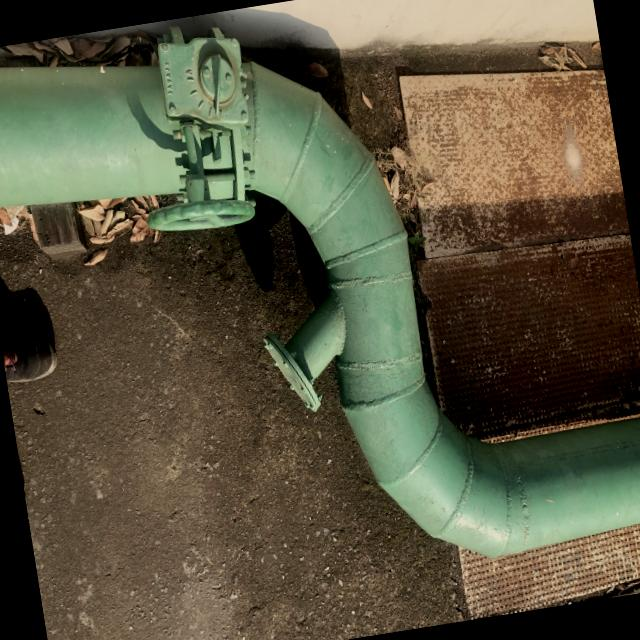gas: (0, 3, 384, 224), (296, 52, 456, 564), (364, 410, 640, 575)
